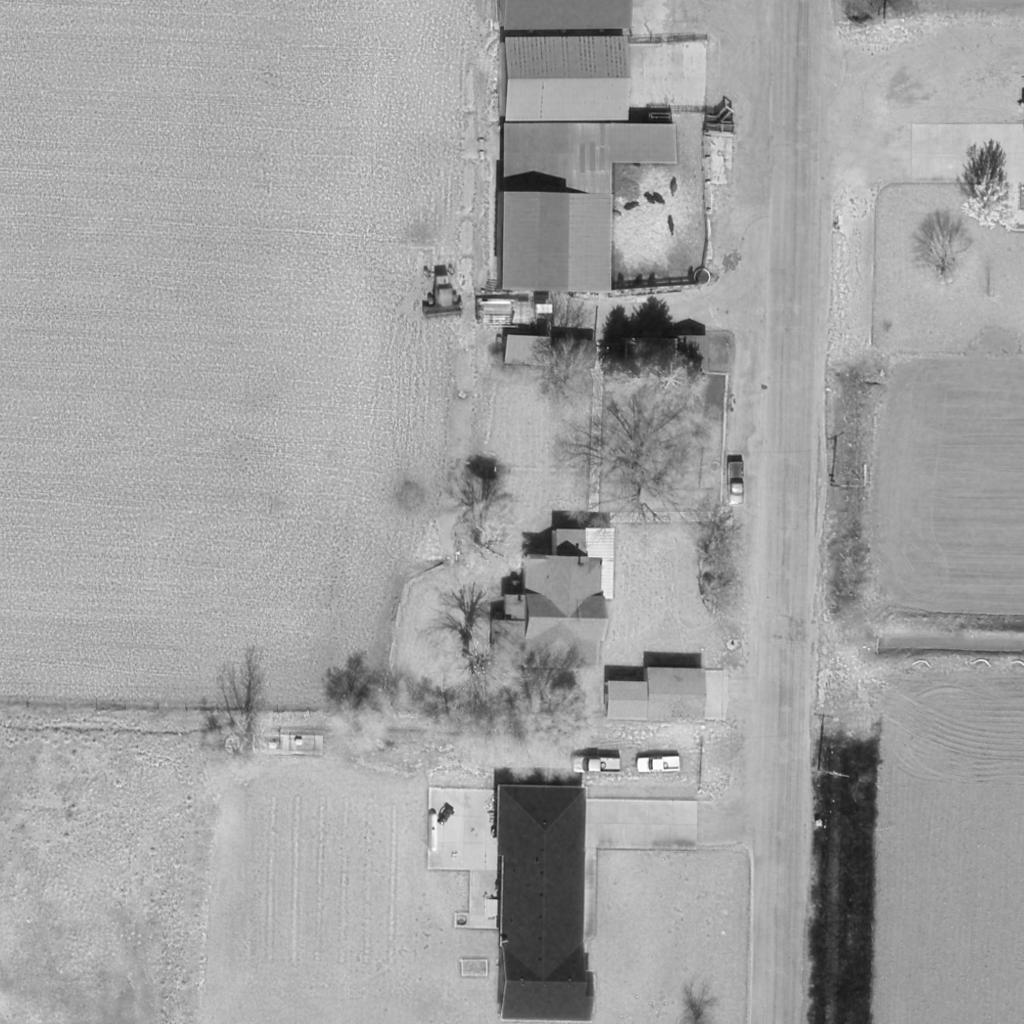vehicle: (422, 265, 462, 303), (724, 458, 748, 506), (571, 757, 621, 775), (637, 756, 681, 770)
